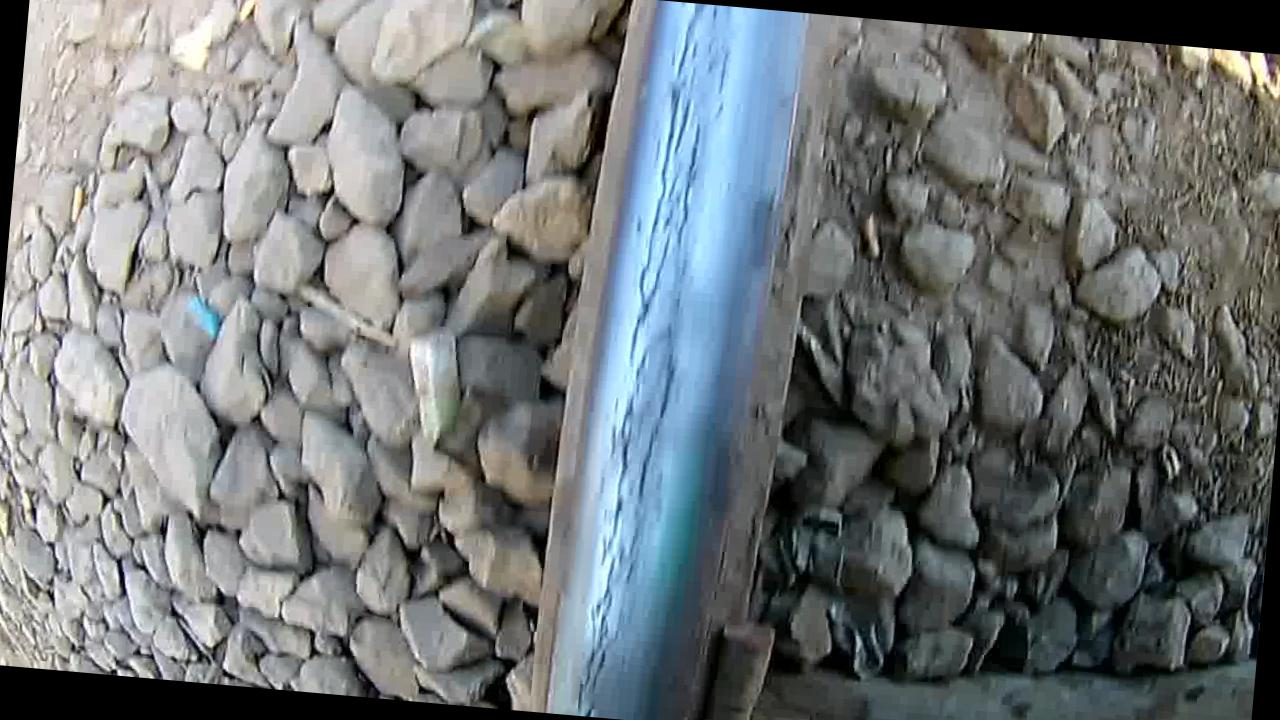normal_track: (573, 1, 734, 720)
